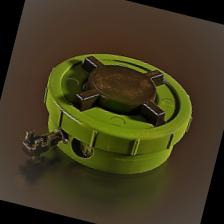PMN2: (8, 28, 201, 210)
